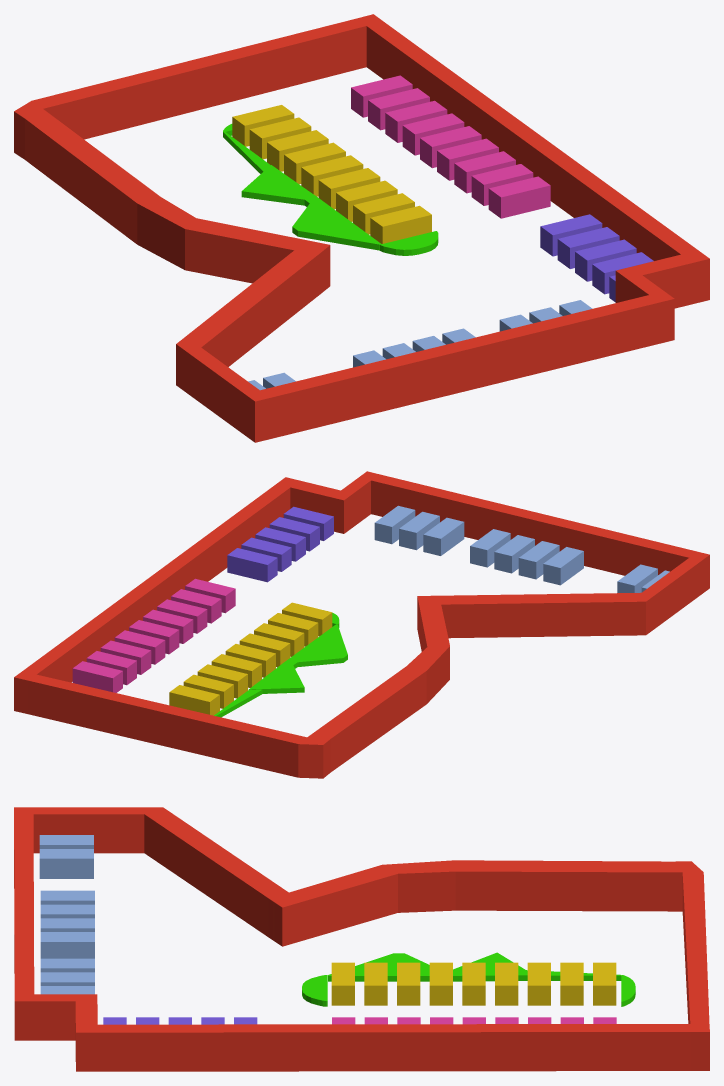
The model's file is parking_map.dae.
The picture shows the model from 3 angles, top to bottom: view 1: azimuth 30°, elevation 25°; view 2: azimuth 150°, elevation 25°; view 3: azimuth 270°, elevation 25°; orthographic projection. The views are drawn at different scales.
Parts seen in each view (by area): view 1: Cube.005, car_1.001, car_1, car_1.002, Cube.002, car_1.004, car_1.005, Cube.001; view 2: Cube.005, car_1.001, car_1, car_1.002, car_1.004, car_1.005, Cube.002, car_1.003; view 3: Cube.005, car_1, car_1.004, car_1.003, car_1.005, Cube.002, car_1.001, car_1.002, Cube.001.
Boxes of the visible parts, bbox=[...] form: Cube.005: bbox=[14, 14, 709, 442]; car_1.001: bbox=[351, 75, 550, 218]; car_1: bbox=[232, 105, 431, 243]; car_1.002: bbox=[540, 214, 653, 302]; Cube.002: bbox=[241, 165, 381, 250]; car_1.004: bbox=[353, 328, 475, 367]; car_1.005: bbox=[499, 300, 592, 331]; Cube.001: bbox=[380, 231, 438, 255]; Cube.005: bbox=[14, 471, 709, 778]; car_1.001: bbox=[72, 578, 235, 692]; car_1: bbox=[169, 602, 332, 715]; car_1.002: bbox=[227, 506, 333, 582]; car_1.004: bbox=[470, 529, 583, 585]; car_1.005: bbox=[374, 505, 464, 555]; Cube.002: bbox=[248, 624, 347, 693]; car_1.003: bbox=[617, 564, 669, 592]; Cube.005: bbox=[14, 807, 709, 1071]; car_1: bbox=[331, 962, 616, 1005]; car_1.004: bbox=[40, 890, 94, 958]; car_1.003: bbox=[39, 835, 93, 878]; car_1.005: bbox=[40, 958, 94, 994]; Cube.002: bbox=[328, 952, 527, 981]; car_1.001: bbox=[332, 1017, 616, 1024]; car_1.002: bbox=[103, 1017, 257, 1024]; Cube.001: bbox=[302, 975, 327, 1006].
Size of the model in its own units: 40.07 by 52.27 by 3.24.
